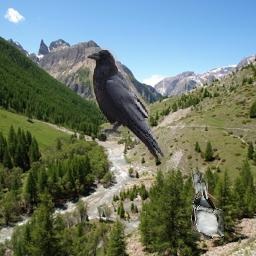Crow: (86, 48, 165, 161)
Cuckoo: (192, 168, 225, 240)
